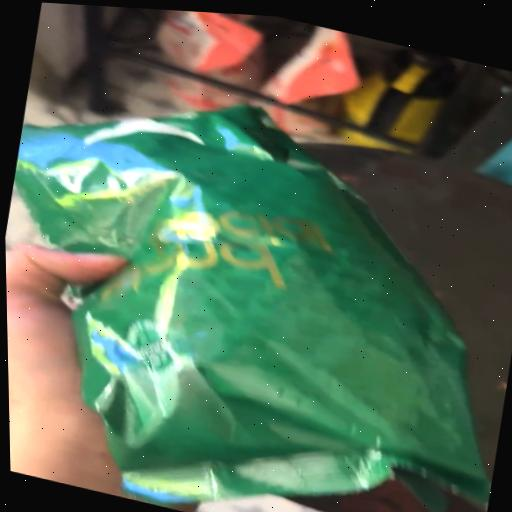cafe_xay: (14, 107, 489, 508)
